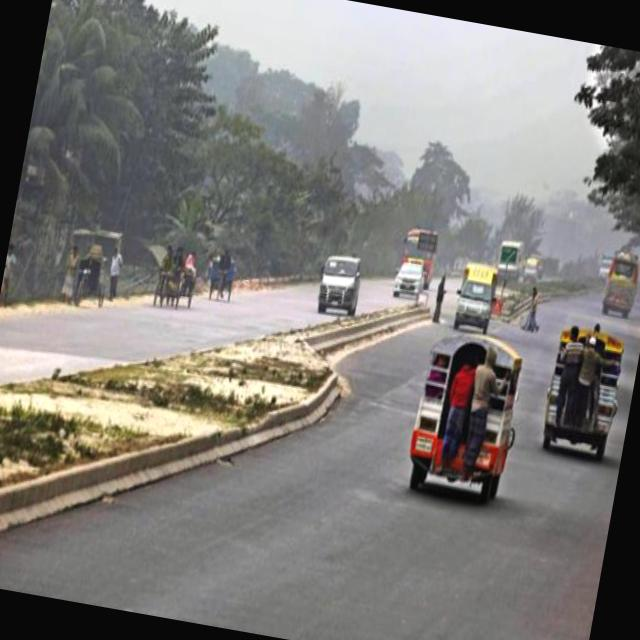bus: (405, 322, 531, 500), (540, 318, 629, 456), (454, 256, 502, 328), (400, 221, 443, 282), (601, 251, 640, 314)
car: (395, 257, 430, 297)
truck: (317, 248, 366, 312)
